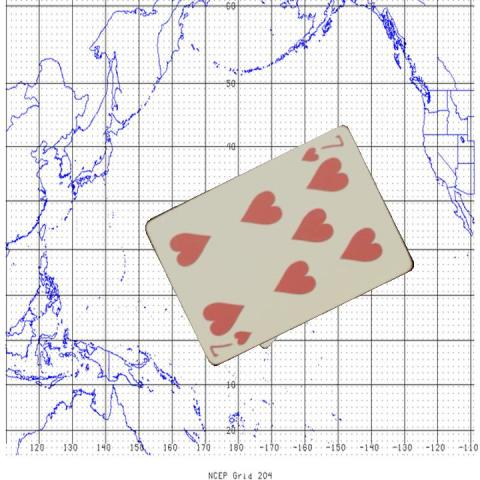7h: (298, 131, 346, 163), (206, 326, 254, 358)
